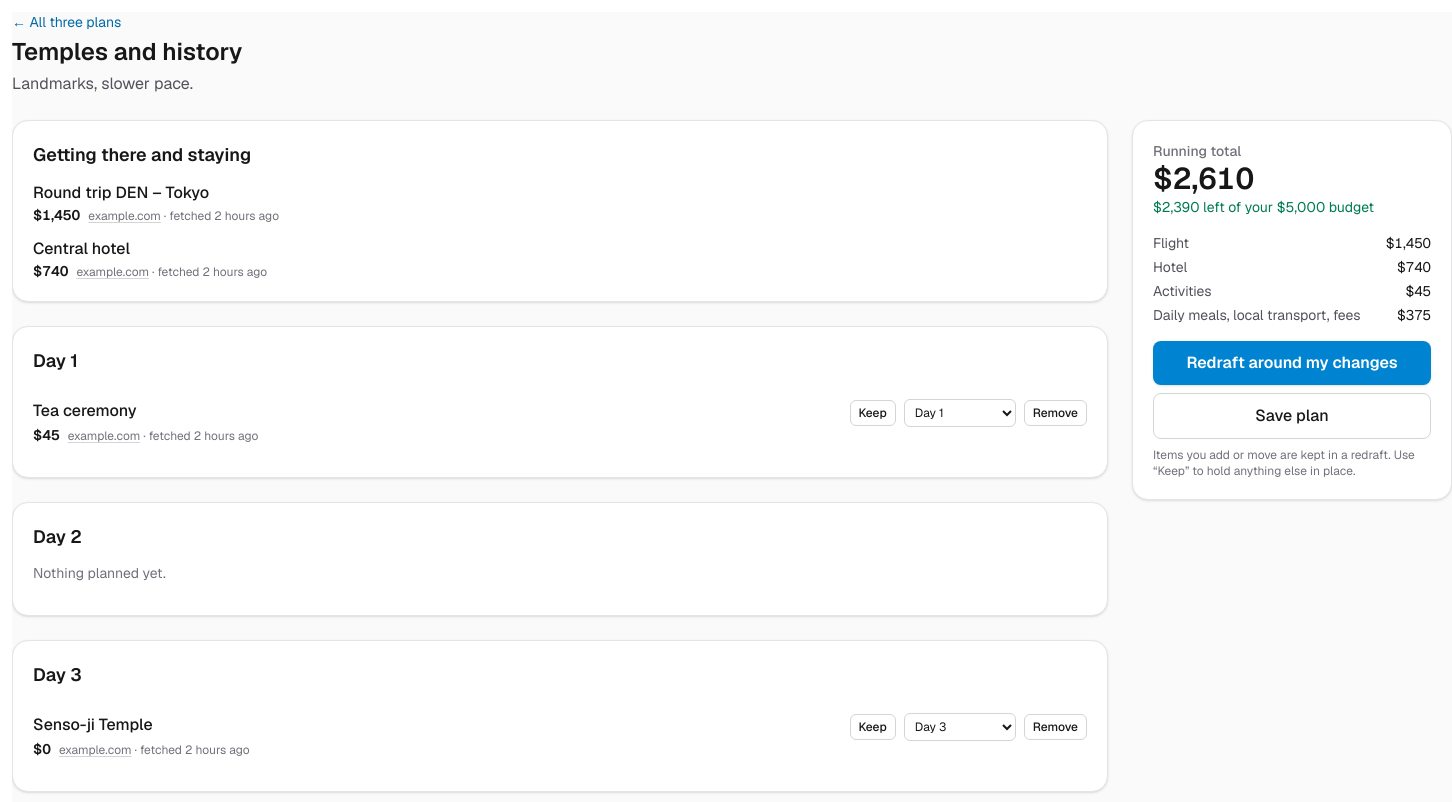
Test: PlanEditor › a failed redraft keeps the user's edits
This screenshot has width=1452, height=802.
Click the button with aria-label "Remove Tea ceremony".
click(1055, 413)  # box [1024,400,1087,426]
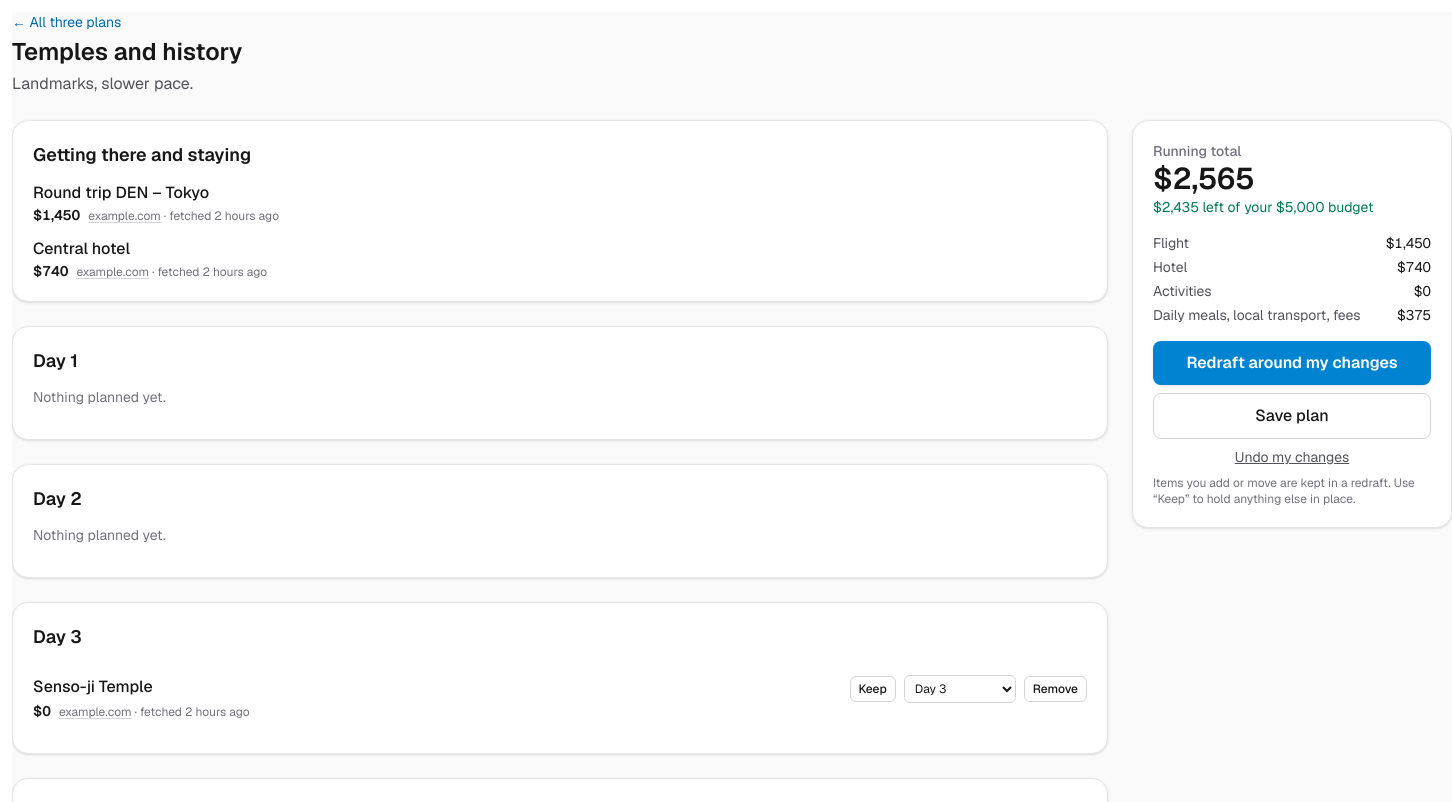
Click the button "Redraft around my changes".
click(1292, 363)  # box [1153,341,1431,385]
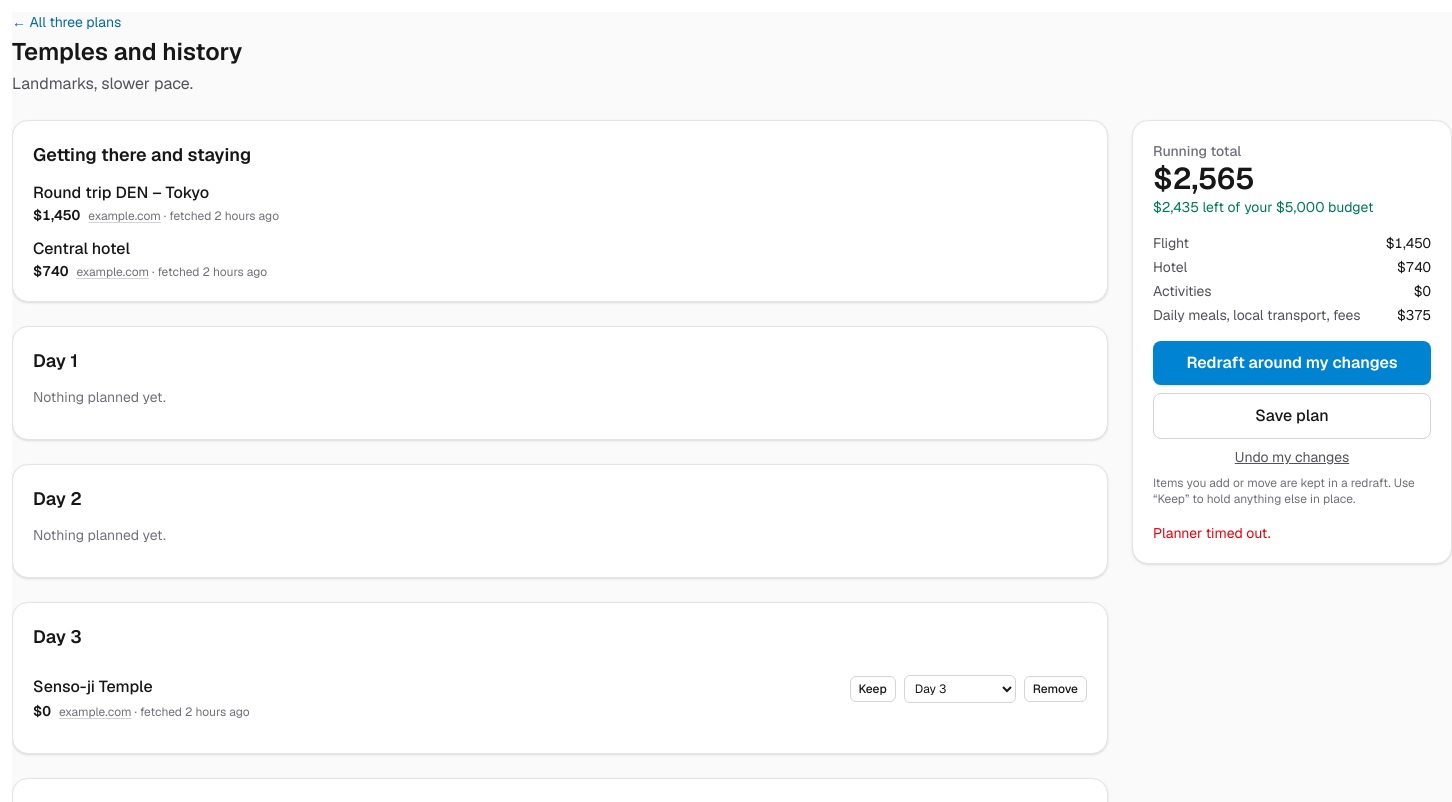
Expected: the text "Tea ceremony" is not shown
Now the message "Planner timed out." is shown, box [1153,524,1270,542]
